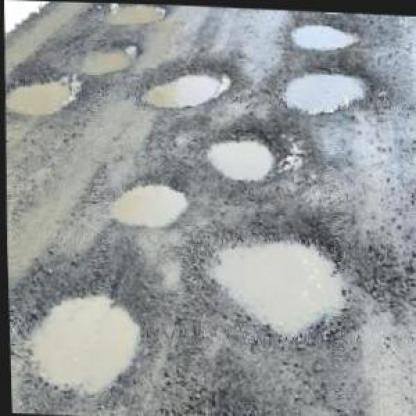pothole: (194, 214, 359, 345), (19, 277, 150, 401), (272, 54, 374, 117), (136, 48, 237, 111), (106, 169, 192, 229), (204, 120, 279, 182), (4, 69, 79, 121), (288, 14, 364, 48), (73, 39, 136, 76)
